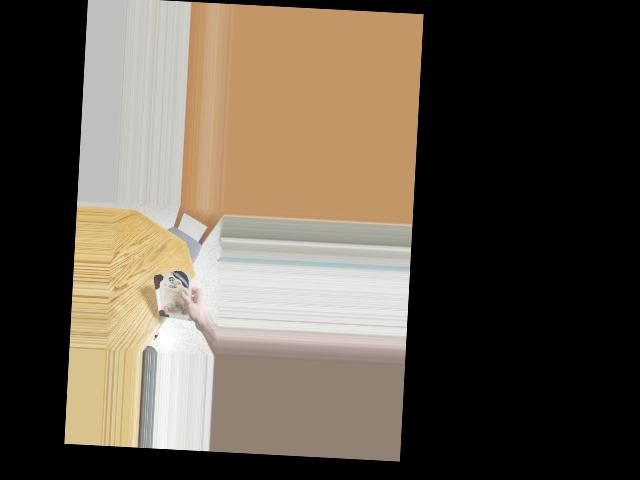cheese: (155, 267, 193, 327)
